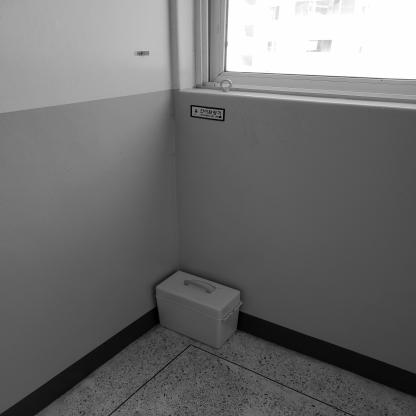DDL: (154, 271, 243, 349)
